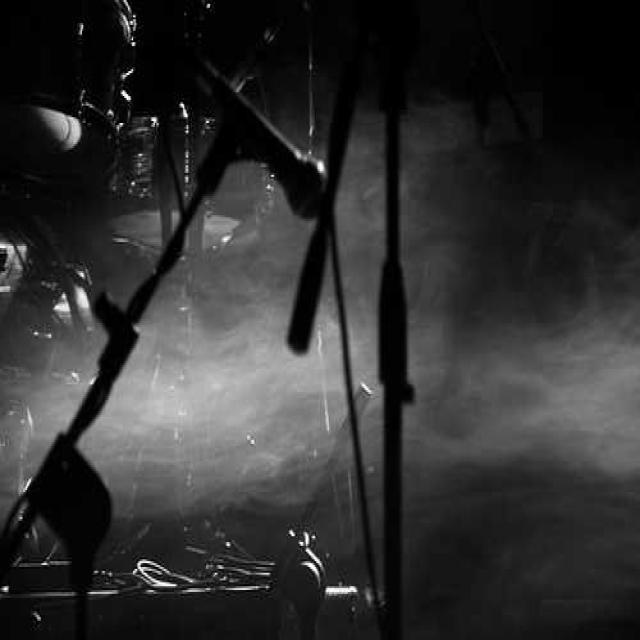microphone: (160, 33, 373, 207)
